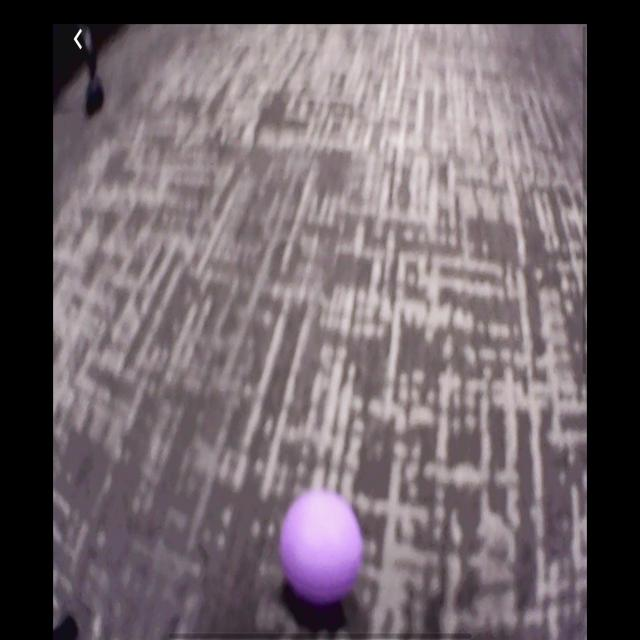ball: (282, 490, 363, 606)
